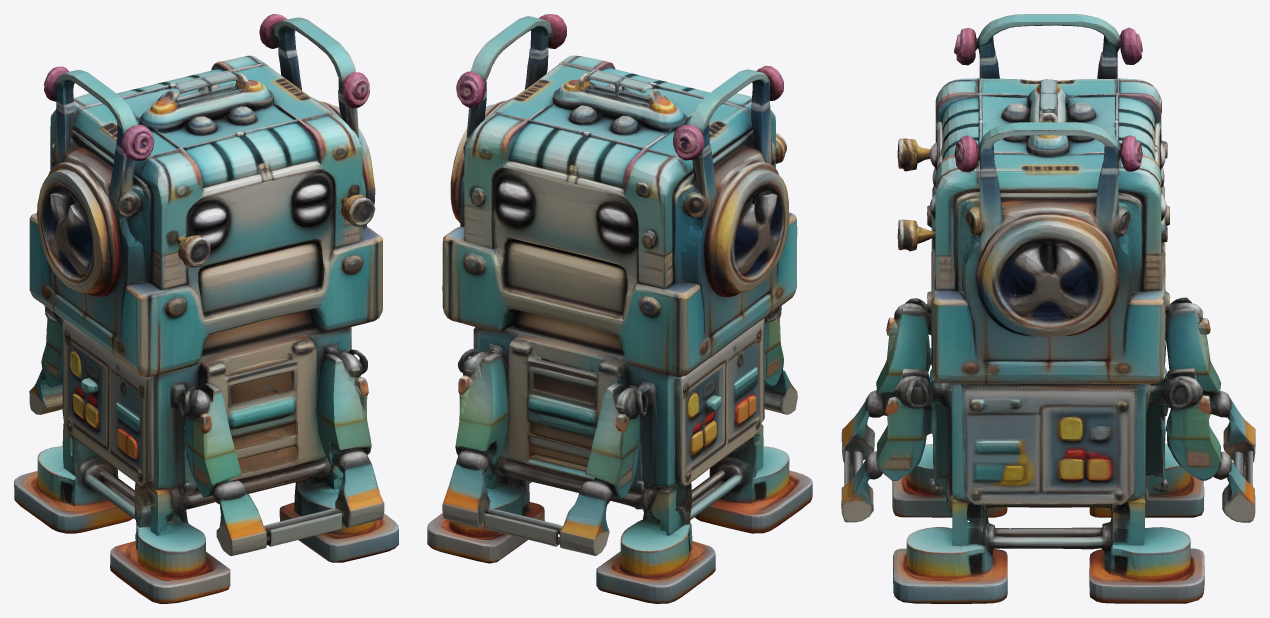
3 renders of one model, left to right at view 1: azimuth 30°, elevation 25°; view 2: azimuth 150°, elevation 25°; view 3: azimuth 270°, elevation 25°, orthographic.
Parts seen in each view (by area): view 1: world; view 2: world; view 3: world.
Boxes of the visible parts, x1,y1,x2,y2 form: world: (14, 14, 398, 603); world: (427, 14, 812, 603); world: (841, 14, 1255, 603).
Bounding box in the file's own units: 0.6587 × 1 × 0.7973.
Materials: 1 (1 with a texture image).
